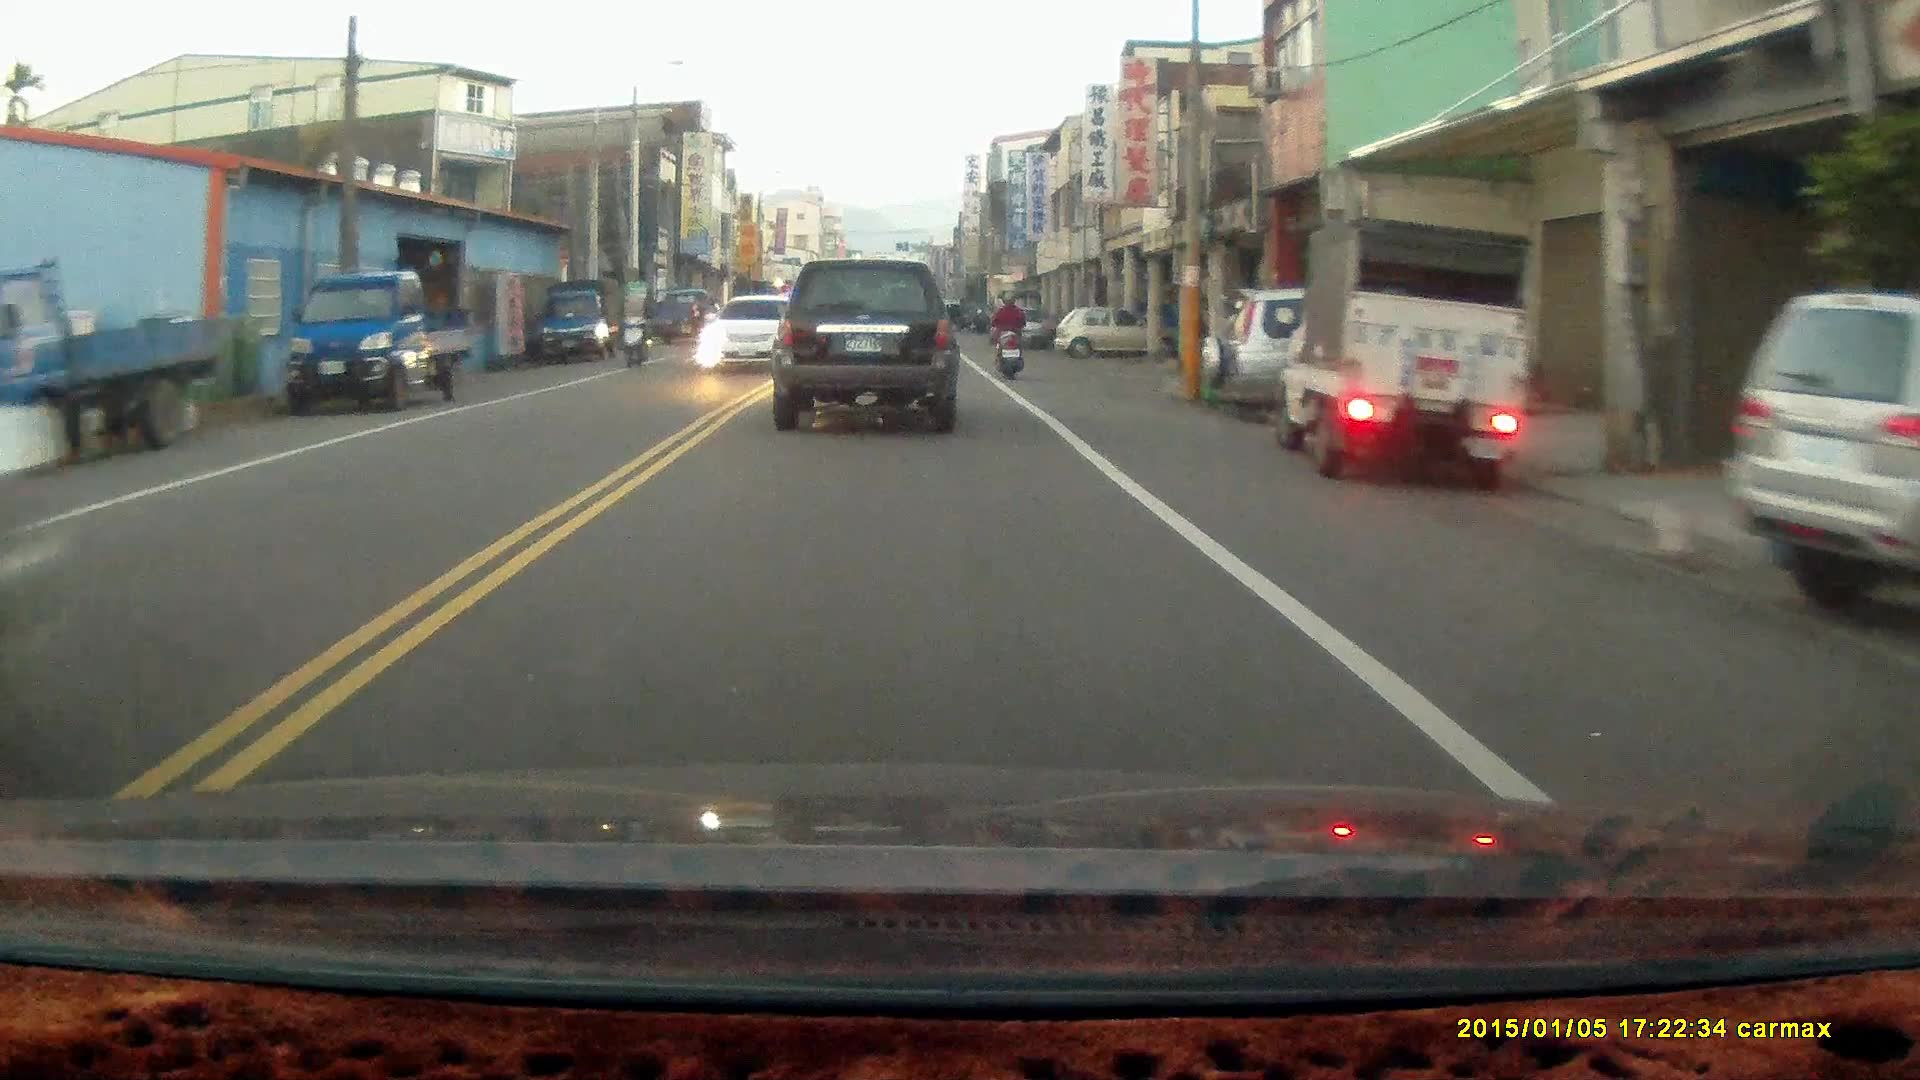pedestrian: (686, 297, 706, 348)
rider: (990, 283, 1027, 380), (616, 281, 652, 367)
vehicle: (1273, 217, 1542, 487), (1726, 288, 1920, 617), (1201, 277, 1543, 428), (3, 265, 219, 464), (769, 255, 963, 431), (285, 270, 474, 410), (532, 279, 634, 360), (703, 290, 789, 377), (1059, 306, 1143, 359)
